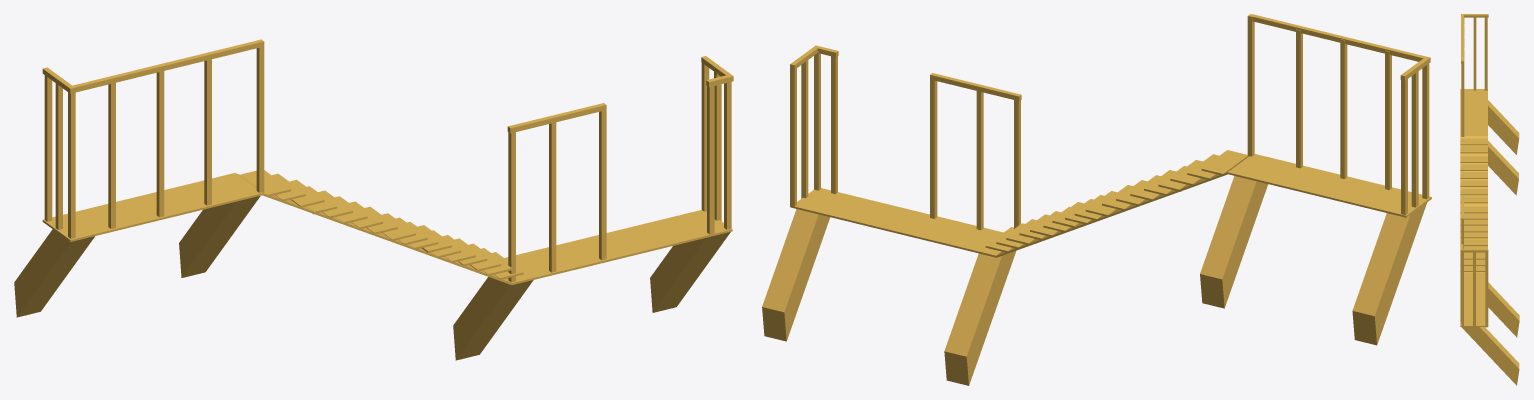
3 renders of one model, left to right at view 1: azimuth 30°, elevation 25°; view 2: azimuth 150°, elevation 25°; view 3: azimuth 270°, elevation 25°, orthographic. The views are drawn at different scales.
Visible parts, largest first — view 1: 支柱; view 2: 支柱; view 3: 支柱.
Part boxes in pixels (x1,y1,x2,y2): 支柱: [14, 39, 733, 360]; 支柱: [762, 14, 1431, 385]; 支柱: [1460, 14, 1519, 385].
Bounding box in the file's own units: 2.76 × 1.67 × 0.4272.
